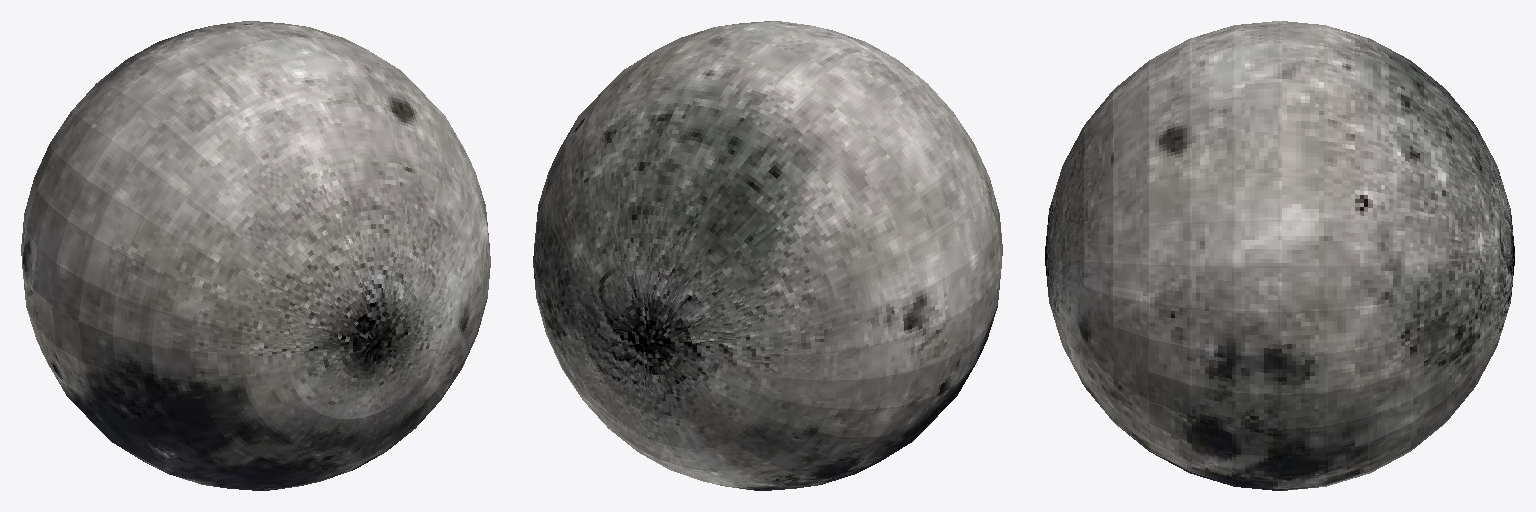
The picture shows the model from 3 angles: view 1: azimuth 30°, elevation 25°; view 2: azimuth 150°, elevation 25°; view 3: azimuth 270°, elevation 25°; orthographic projection.
Parts seen in each view (by area): view 1: Sphere001; view 2: Sphere001; view 3: Sphere001.
Part boxes in pixels (x1,y1,x2,y2): Sphere001: (21, 21, 490, 490); Sphere001: (533, 21, 1002, 490); Sphere001: (1045, 21, 1514, 490).
Size of the model in its own units: 51.26 by 51.26 by 51.26.
Materials: 1 (1 with a texture image).